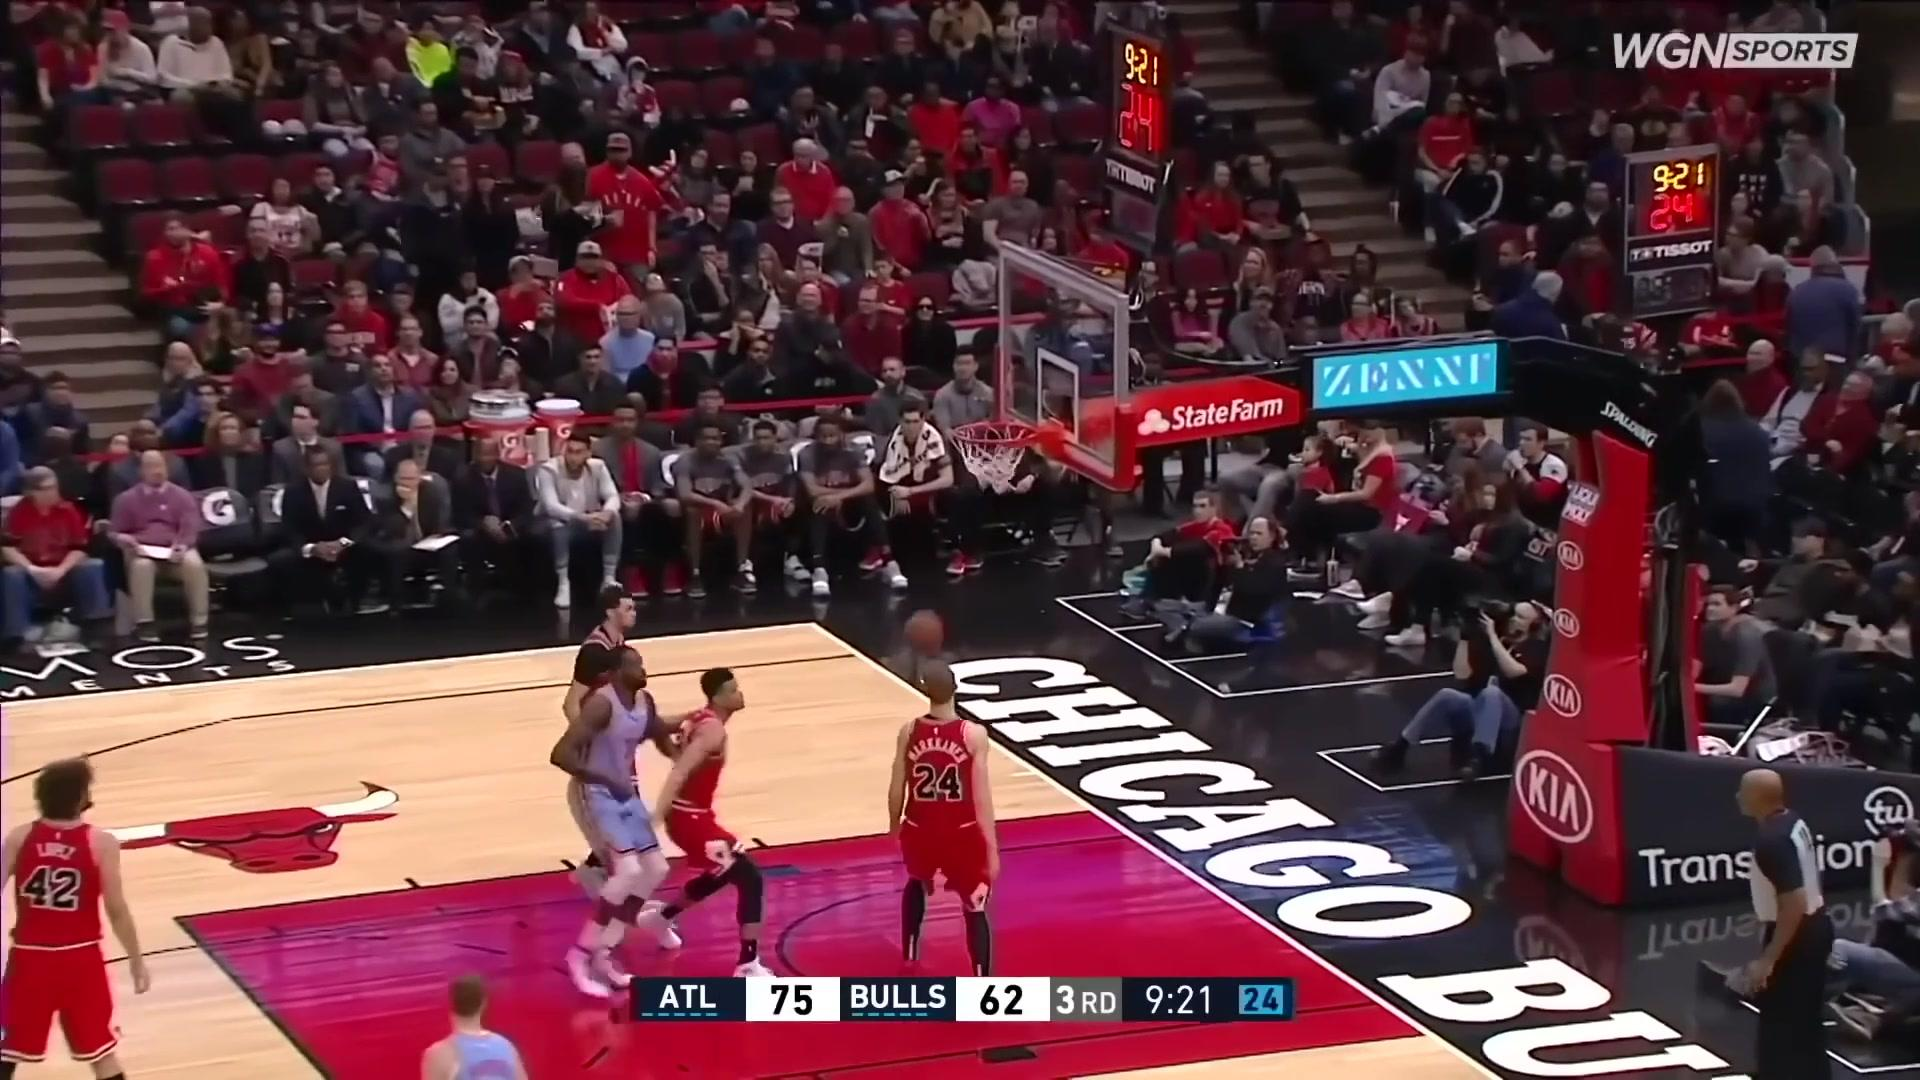foul: (530, 641, 799, 977)
